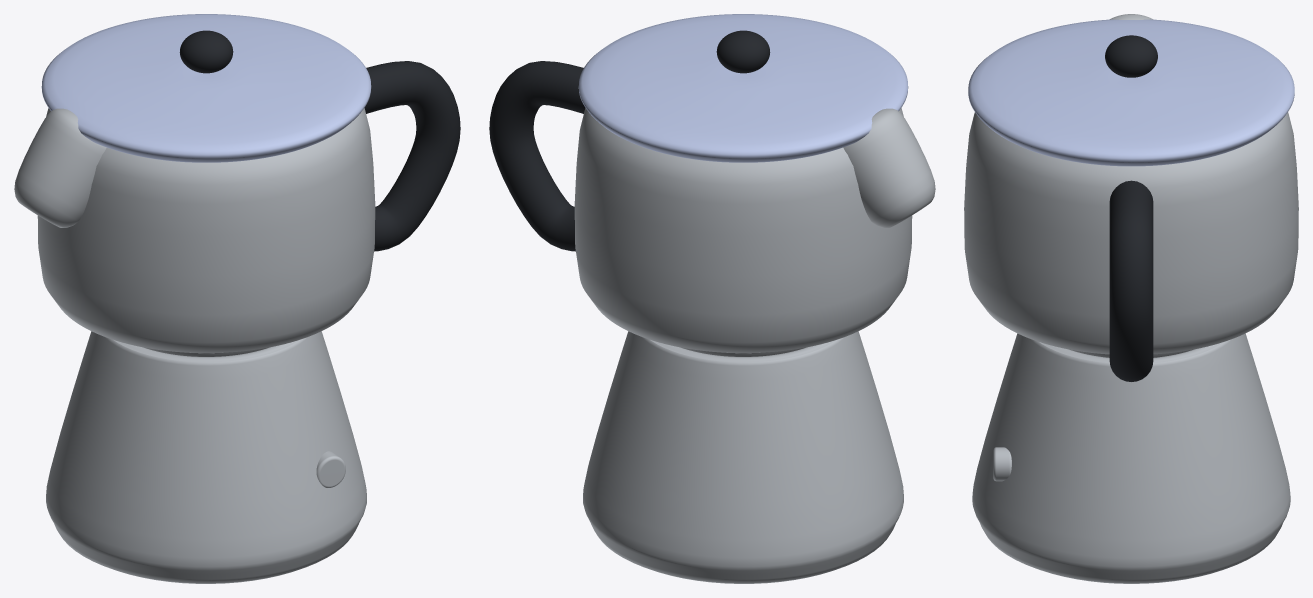
File: stovetop-brewer.glb
The picture shows the model from 3 angles, left to right: view 1: azimuth 30°, elevation 25°; view 2: azimuth 150°, elevation 25°; view 3: azimuth 270°, elevation 25°; orthographic projection.
Visible parts, largest first — view 1: sculpted-surface (×3), upper-collecting-chamber-012, hollow-pouring-spout, hinged-lid-015, safety-valve-016; view 2: sculpted-surface (×3), upper-collecting-chamber-012, hollow-pouring-spout, hinged-lid-015; view 3: sculpted-surface (×3), upper-collecting-chamber-012, hinged-lid-015, safety-valve-016.
Part boxes in pixels (x1=…): sculpted-surface (×3): x1=37, y1=14, x2=375, y2=583; upper-collecting-chamber-012: x1=364, y1=61, x2=460, y2=251; hollow-pouring-spout: x1=14, y1=108, x2=106, y2=227; hinged-lid-015: x1=179, y1=30, x2=233, y2=73; safety-valve-016: x1=316, y1=451, x2=345, y2=487; sculpted-surface (×3): x1=574, y1=14, x2=912, y2=583; upper-collecting-chamber-012: x1=489, y1=61, x2=585, y2=251; hollow-pouring-spout: x1=843, y1=108, x2=935, y2=227; hinged-lid-015: x1=716, y1=30, x2=770, y2=73; sculpted-surface (×3): x1=964, y1=19, x2=1298, y2=583; upper-collecting-chamber-012: x1=1109, y1=180, x2=1153, y2=381; hinged-lid-015: x1=1105, y1=35, x2=1157, y2=77; safety-valve-016: x1=993, y1=447, x2=1011, y2=481.
Size of the model in its own units: 1.86 by 2 by 1.24.
